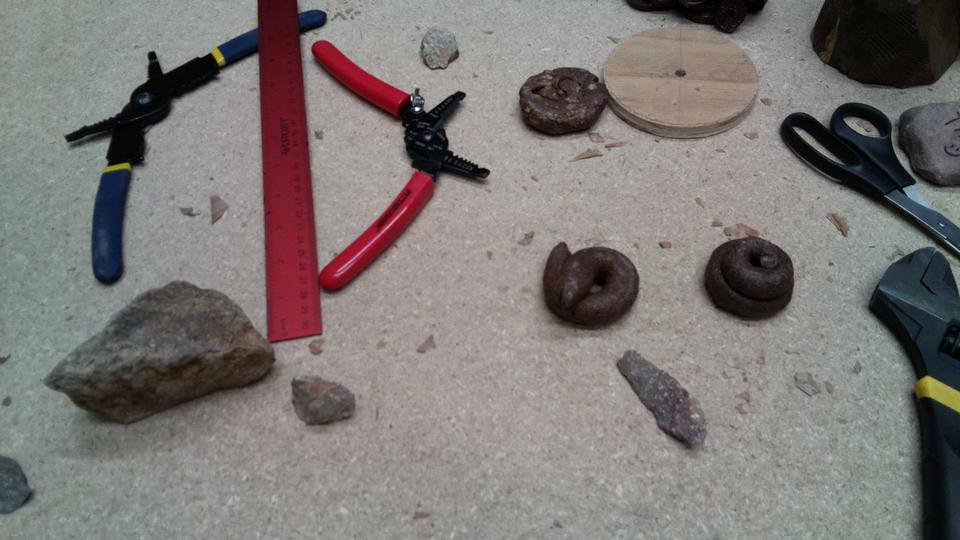poop: (539, 242, 642, 330), (703, 235, 801, 322), (515, 63, 609, 135)
